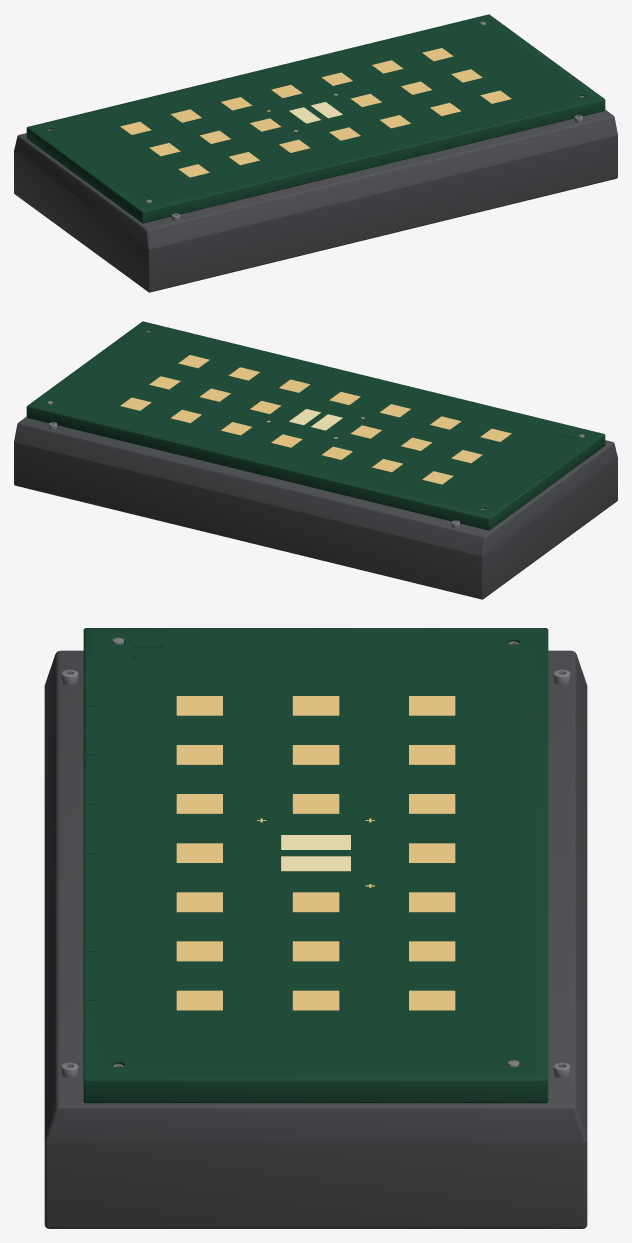
The model's file is SUBSTAGE_Align.glb.
3 renders of one model, top to bottom at view 1: azimuth 30°, elevation 25°; view 2: azimuth 150°, elevation 25°; view 3: azimuth 270°, elevation 25°, orthographic. The views are drawn at different scales.
Visible parts, largest first — view 1: SUBSTAGE_Carrier, SUBSTAGE_AnvilBase, SUBSTAGE_BondPads, SUBSTAGE_ActiveSite; view 2: SUBSTAGE_Carrier, SUBSTAGE_AnvilBase, SUBSTAGE_BondPads, SUBSTAGE_ActiveSite; view 3: SUBSTAGE_Carrier, SUBSTAGE_AnvilBase, SUBSTAGE_BondPads, SUBSTAGE_ActiveSite, SUBSTAGE_MountDetails.
Boxes of the visible parts, left/top/right/bottom form: SUBSTAGE_Carrier: left=26, top=14, right=605, bottom=223; SUBSTAGE_AnvilBase: left=14, top=110, right=617, bottom=292; SUBSTAGE_BondPads: left=120, top=48, right=511, bottom=177; SUBSTAGE_ActiveSite: left=289, top=102, right=342, bottom=123; SUBSTAGE_Carrier: left=26, top=321, right=605, bottom=530; SUBSTAGE_AnvilBase: left=14, top=417, right=617, bottom=599; SUBSTAGE_BondPads: left=120, top=355, right=511, bottom=484; SUBSTAGE_ActiveSite: left=289, top=409, right=342, bottom=430; SUBSTAGE_Carrier: left=83, top=628, right=548, bottom=1103; SUBSTAGE_AnvilBase: left=44, top=650, right=587, bottom=1228; SUBSTAGE_BondPads: left=176, top=696, right=455, bottom=1010; SUBSTAGE_ActiveSite: left=281, top=835, right=350, bottom=871; SUBSTAGE_MountDetails: left=61, top=637, right=570, bottom=1077.
Size of the model in its own units: 0.28 by 0.0426 by 0.14.
